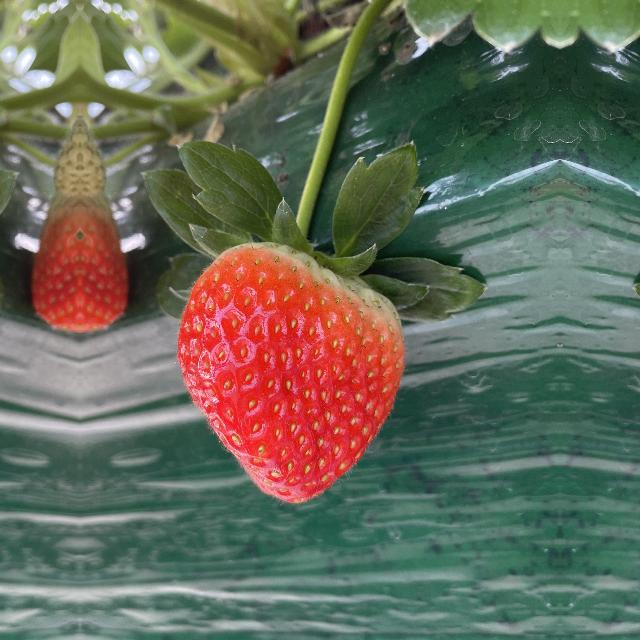Health_100: (174, 232, 406, 506)
